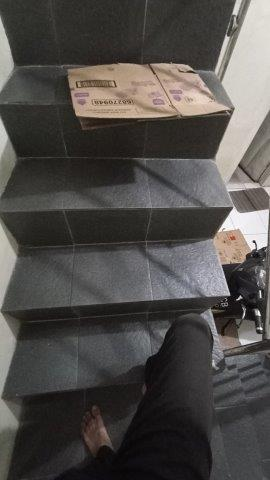kardus: (67, 65, 230, 127), (214, 230, 252, 263)
